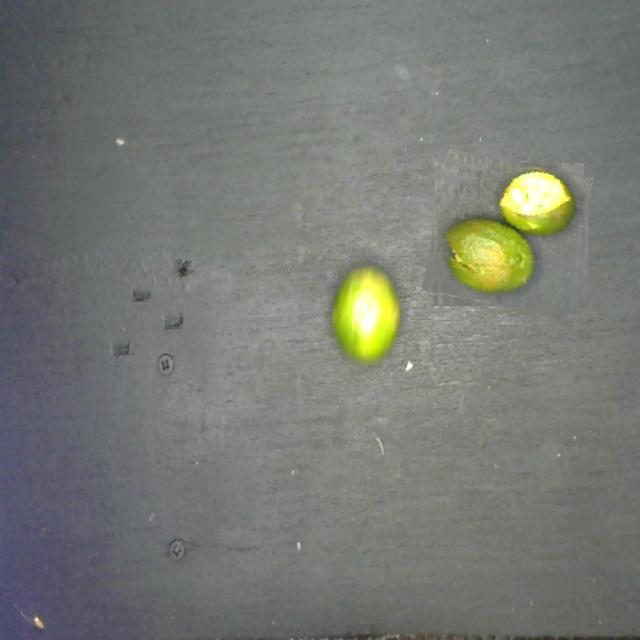biodegradable: (428, 155, 588, 314)
